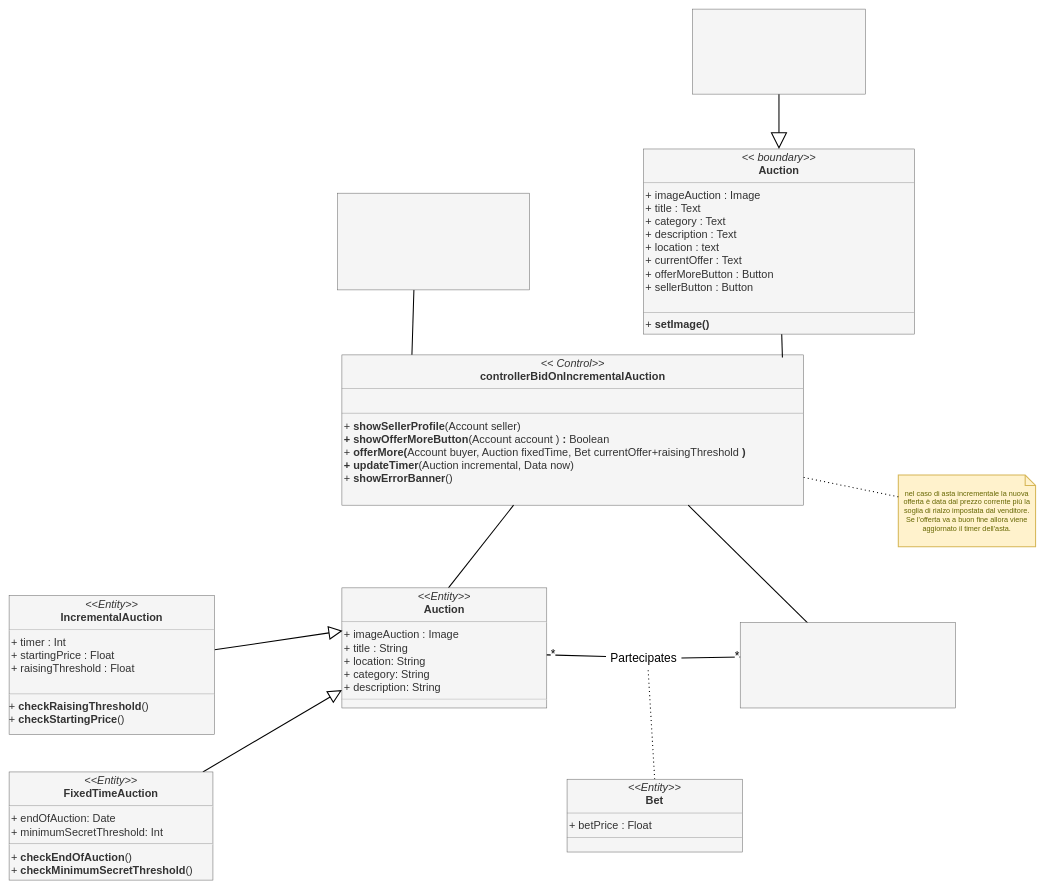
This 1045x889 diagram has some shape labels left out. Each missing label, with the box of its shape:
<< boundary >> FeedbackOnOffer + price : Float + checkPriceToBid( Float price ): (337, 193, 530, 290)
<< boundary >> IncrementalAuction + timeToBet : Text + raisingThreshold : Float: (692, 9, 866, 94)
<<Entity>> Buyer + getAllAuctions (): (740, 622, 956, 708)
